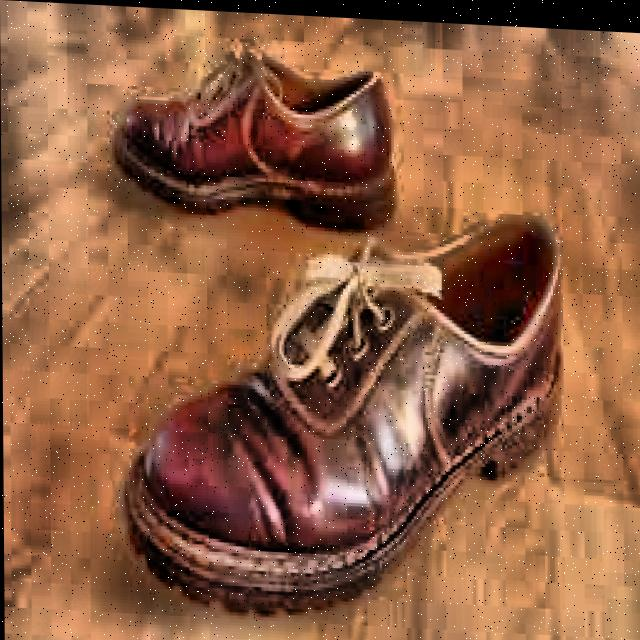shoes: (110, 47, 573, 629)
